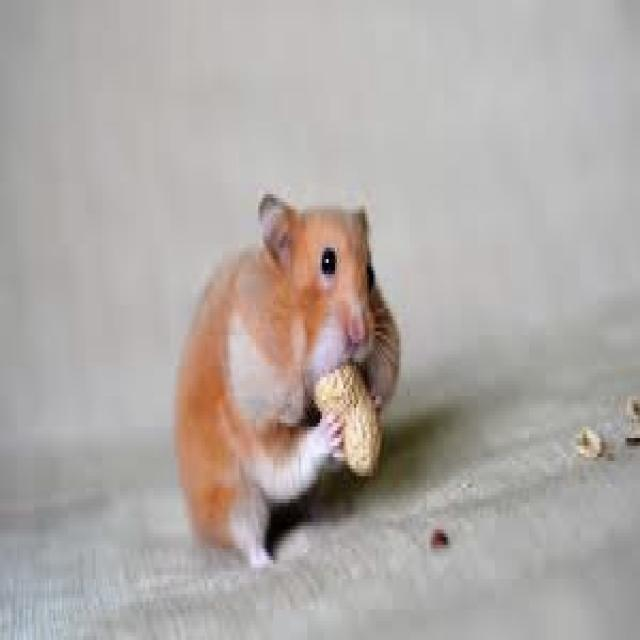hamster: (175, 194, 399, 564)
